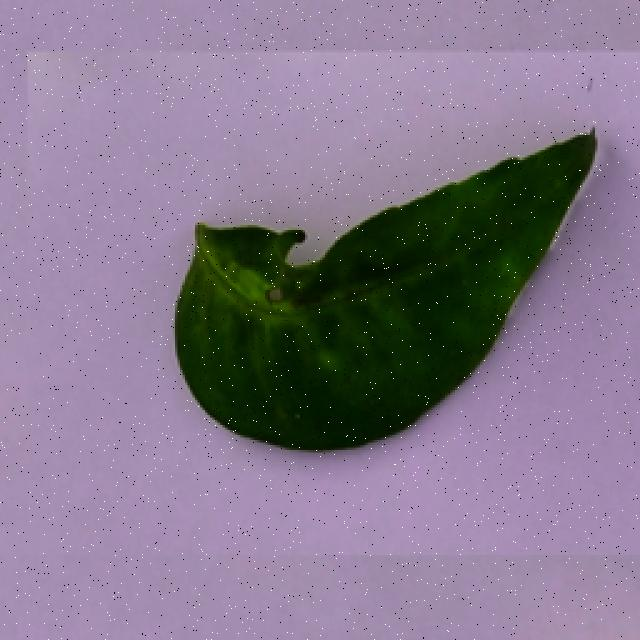greening: (149, 122, 604, 455)
